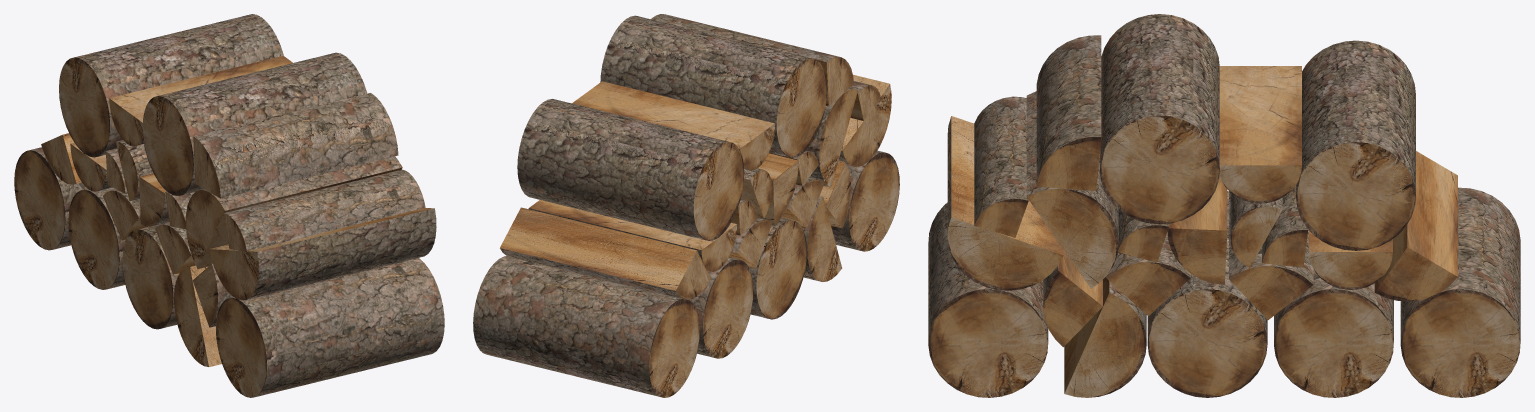
The picture shows the model from 3 angles, left to right: view 1: azimuth 30°, elevation 25°; view 2: azimuth 150°, elevation 25°; view 3: azimuth 270°, elevation 25°; orthographic projection. The views are drawn at different scales.
Parts seen in each view (by area): view 1: catasta_legno_0; view 2: catasta_legno_0; view 3: catasta_legno_0.
Part boxes in pixels (x1,y1,x2,y2): catasta_legno_0: [14, 14, 444, 397]; catasta_legno_0: [473, 14, 899, 397]; catasta_legno_0: [928, 14, 1520, 397].
Bounding box in the file's own units: 0.604 × 0.7785 × 1.48.
2 materials, 2 textured.
